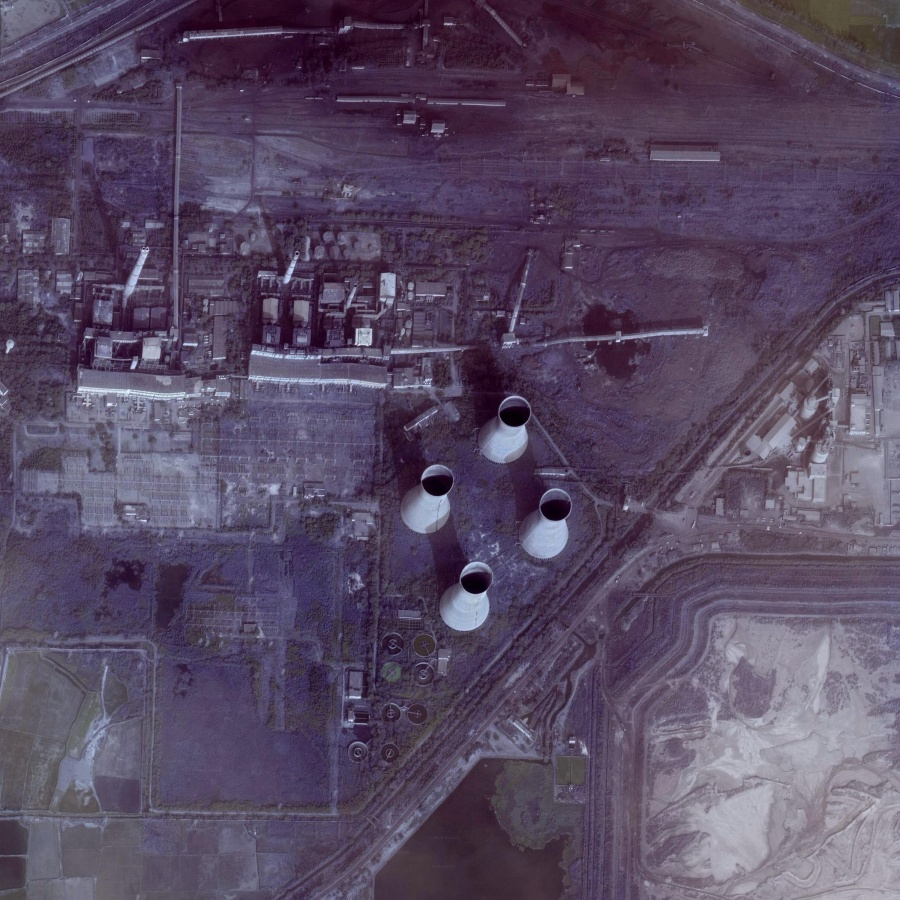PowerPlant: (77, 196, 572, 633)
